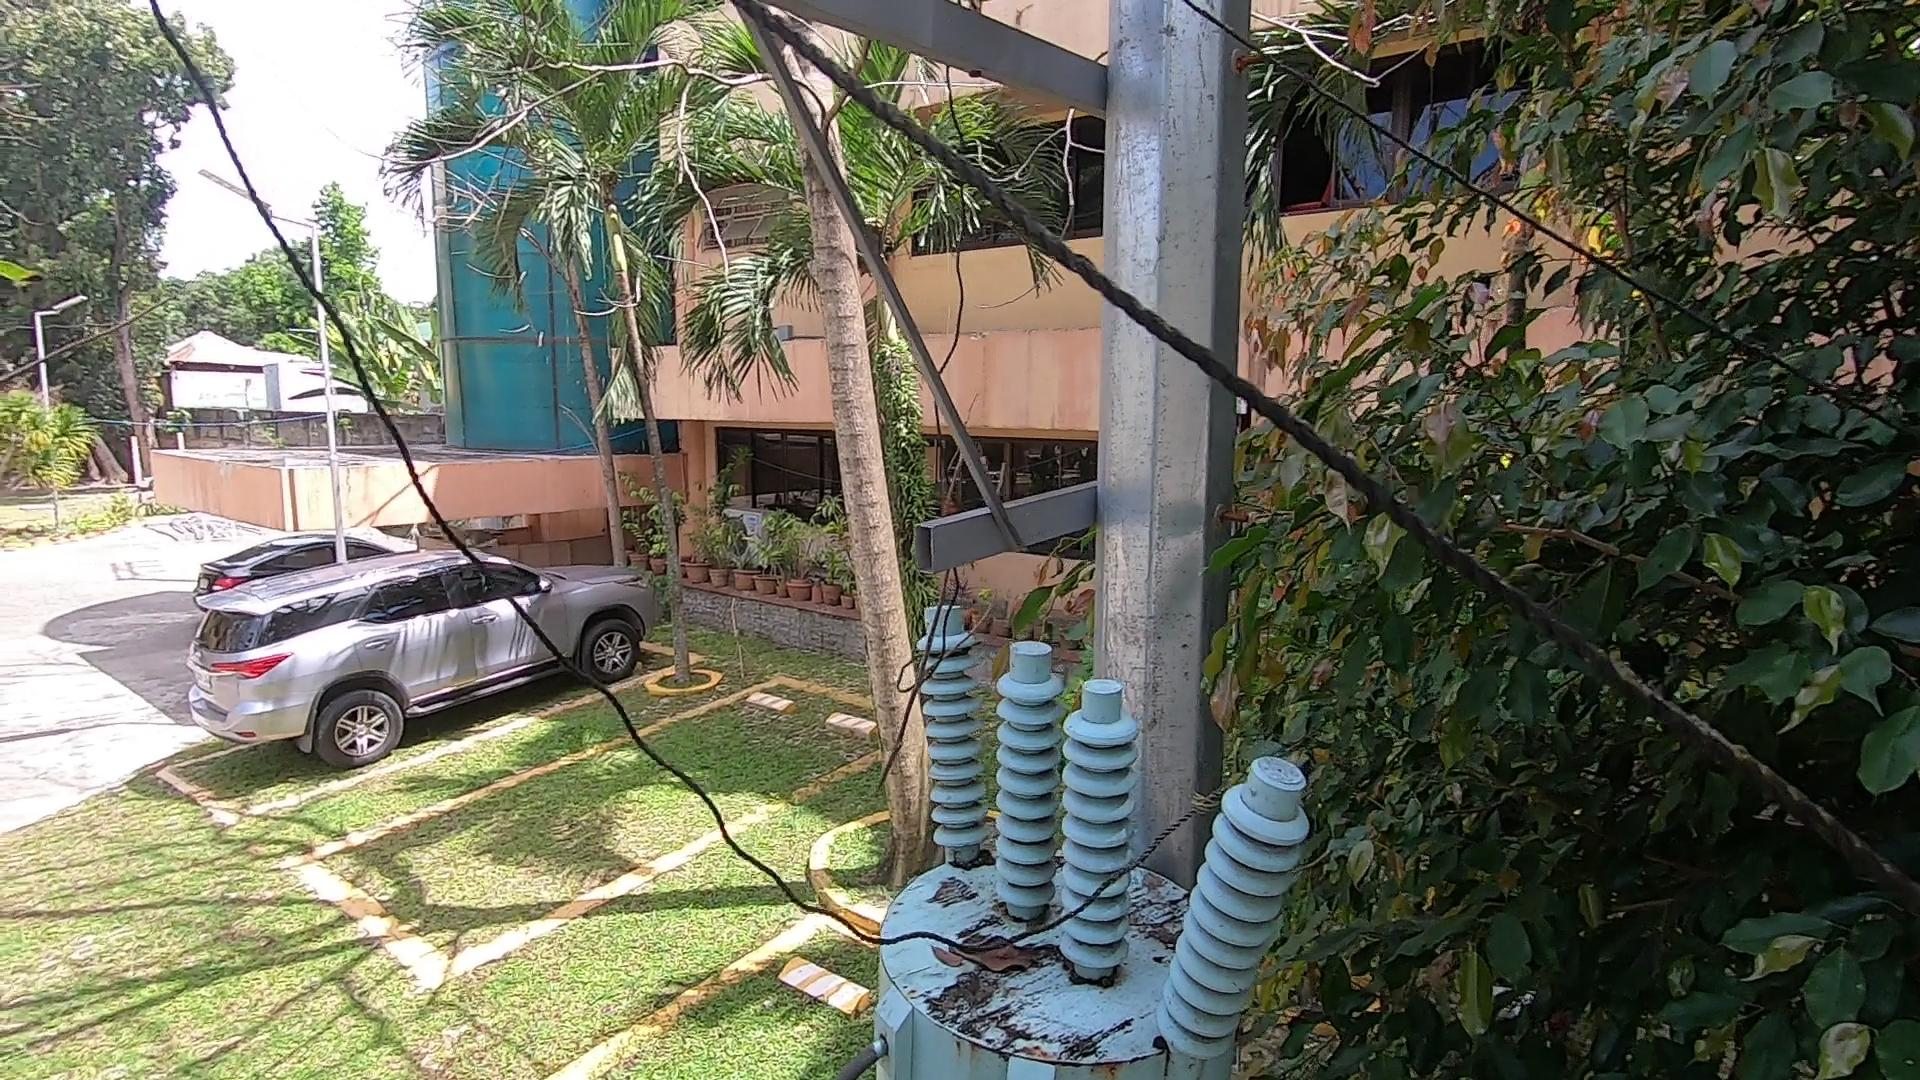leaf: (927, 910, 1062, 978), (1145, 919, 1183, 957), (949, 847, 996, 876)
tree branch: (849, 392, 985, 807)
